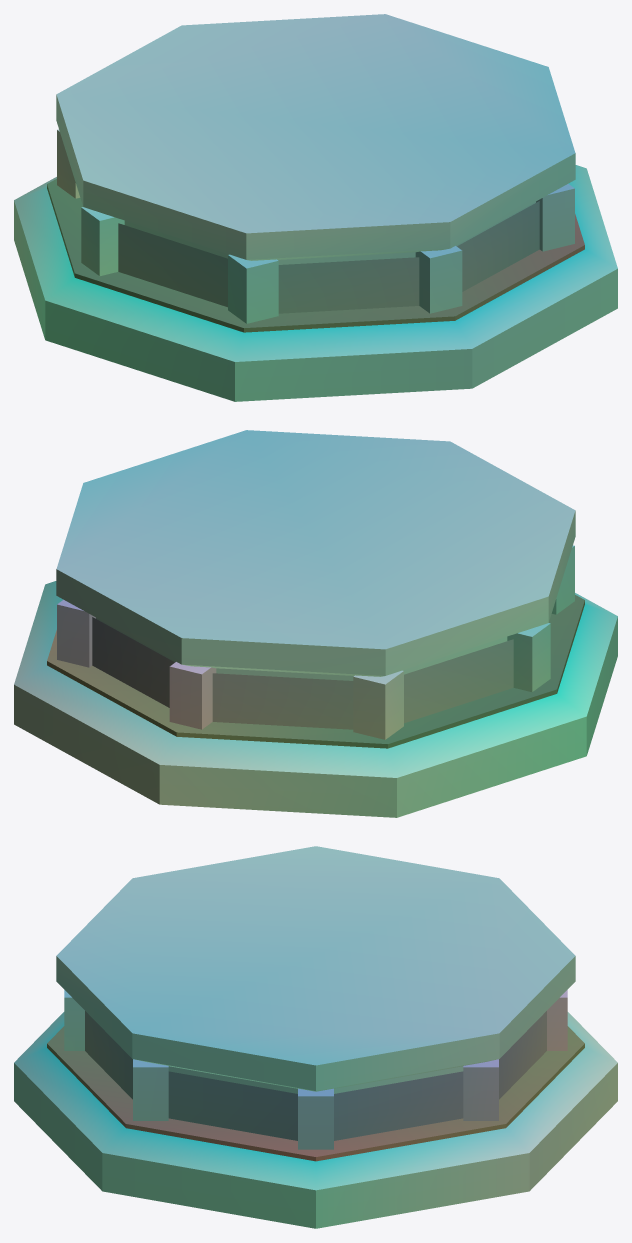
File: watcher_base.glb
The picture shows the model from 3 angles, top to bottom: view 1: azimuth 30°, elevation 25°; view 2: azimuth 150°, elevation 25°; view 3: azimuth 270°, elevation 25°; orthographic projection. The views are drawn at different scales.
Visible parts, largest first — view 1: watcher_base, watcher_core, watcher_ring, watcher_pilasters; view 2: watcher_base, watcher_core, watcher_ring, watcher_pilasters; view 3: watcher_base, watcher_core, watcher_ring, watcher_pilasters.
Part boxes in pixels (box(x1,y1,x2,y2)): watcher_base: box(14, 14, 617, 401); watcher_core: box(118, 201, 539, 313); watcher_ring: box(47, 179, 584, 332); watcher_pilasters: box(57, 129, 574, 323); watcher_base: box(14, 430, 617, 817); watcher_core: box(92, 617, 513, 729); watcher_ring: box(47, 595, 584, 748); watcher_pilasters: box(57, 545, 574, 739); watcher_base: box(14, 846, 617, 1228); watcher_core: box(85, 1011, 546, 1140); watcher_ring: box(47, 1026, 584, 1161); watcher_pilasters: box(64, 990, 567, 1149).
Size of the model in its own units: 1.28 by 0.34 by 1.28.
